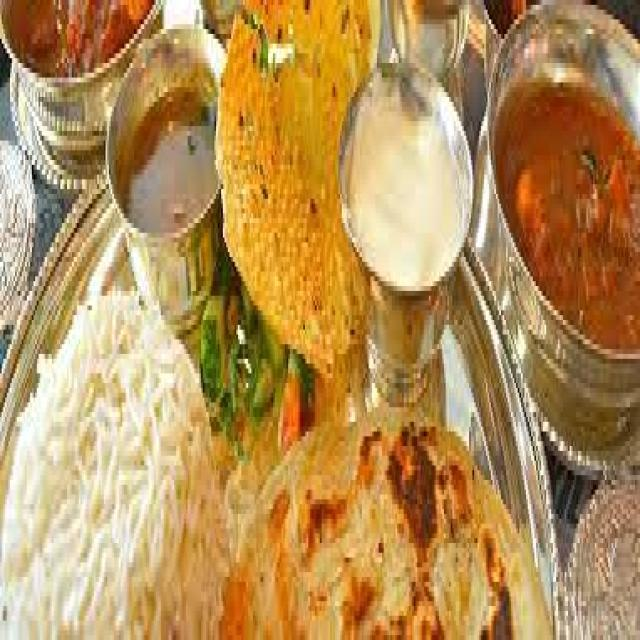curd: (339, 49, 478, 332)
papad: (211, 5, 368, 316)
rice: (14, 268, 195, 626)
roti: (281, 365, 531, 640)
sambar-rasam: (487, 0, 634, 394)
veg-fry: (1, 0, 175, 109)
